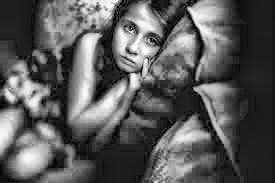sad: (106, 14, 161, 89)
